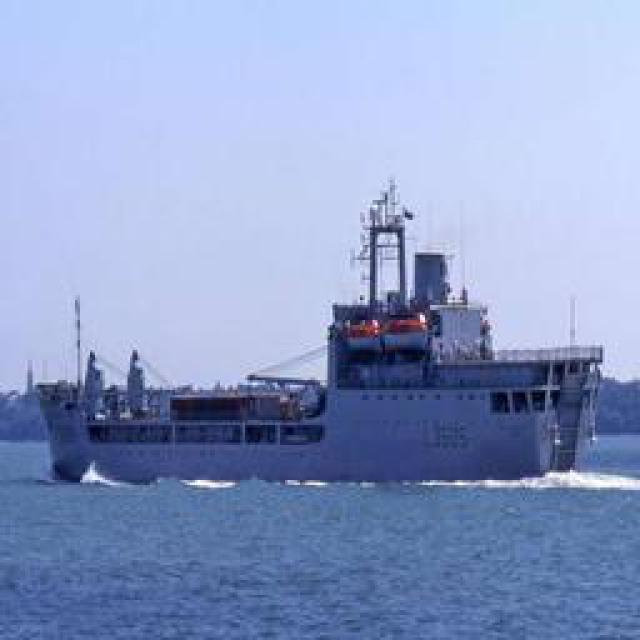Ship: (70, 165, 603, 483)
